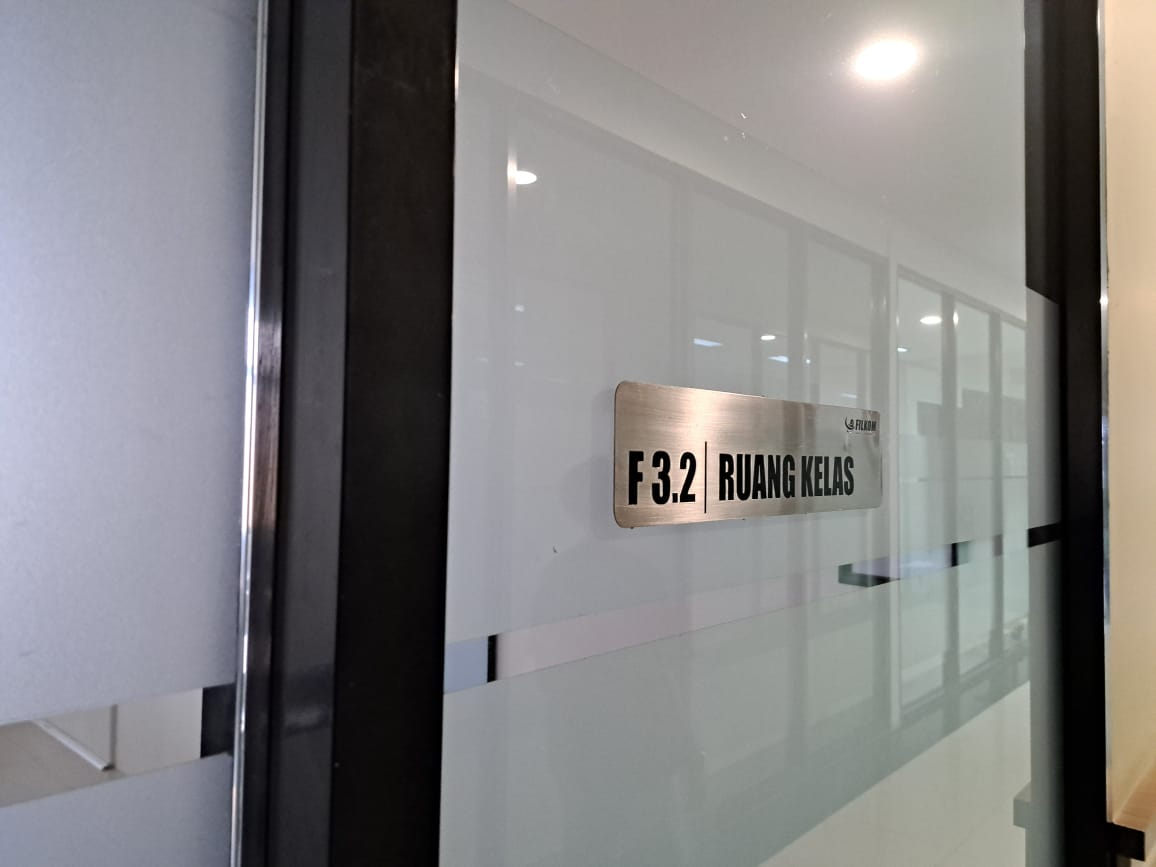ruangan: (602, 368, 886, 538)
